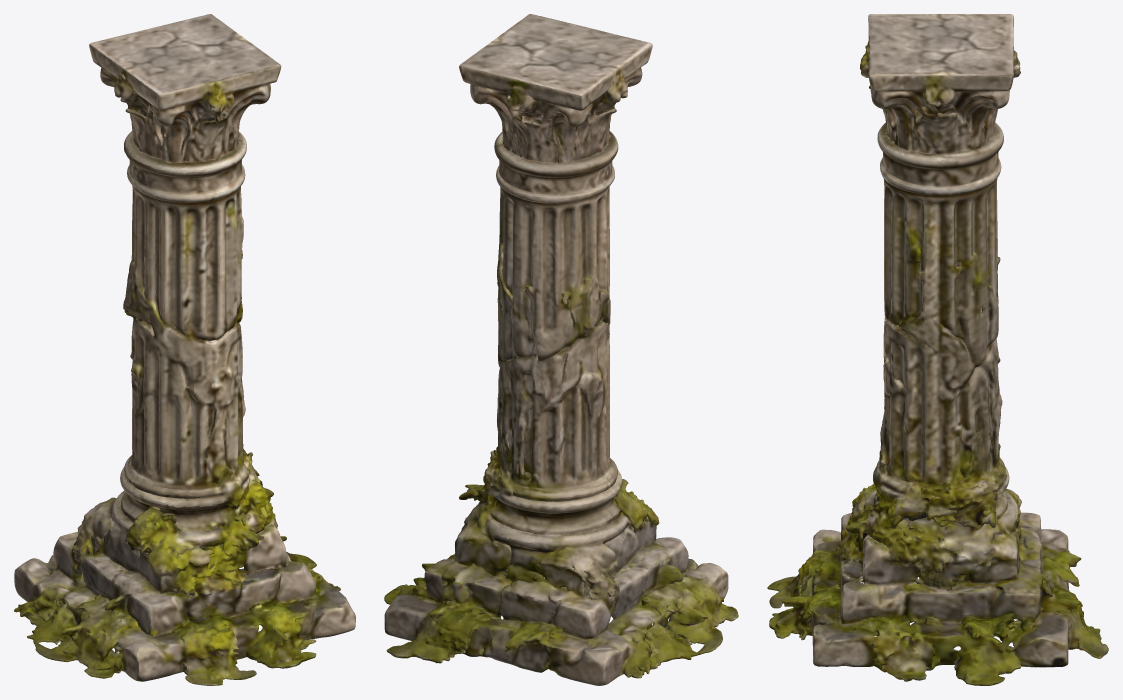
The model's file is AncientColumn01.glb.
3 views of the same model, side by side, from view 1: azimuth 30°, elevation 25°; view 2: azimuth 150°, elevation 25°; view 3: azimuth 270°, elevation 25° (orthographic). The views are drawn at different scales.
Visible parts, largest first — view 1: geometry_0; view 2: geometry_0; view 3: geometry_0.
Boxes of the visible parts, x1,y1,x2,y2 form: geometry_0: (14,14,355,685); geometry_0: (384,14,738,685); geometry_0: (767,14,1108,685).
Size of the model in its own units: 1.95 by 3.5 by 1.89.
1 material, 1 textured.
